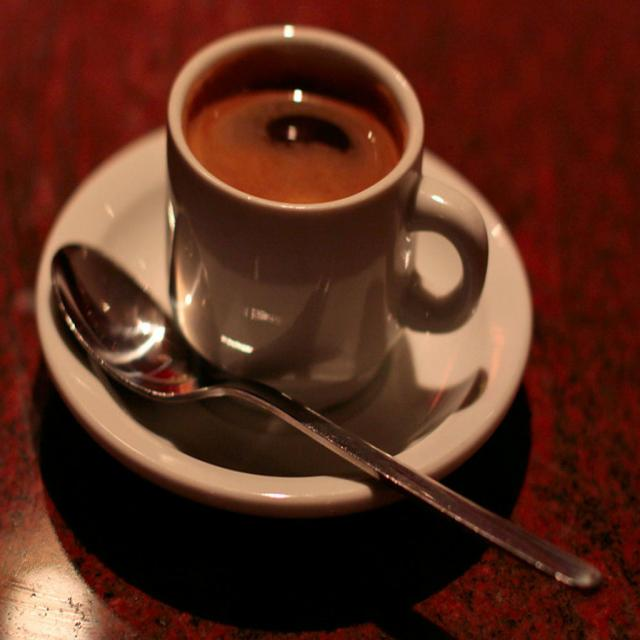Coffee: (182, 68, 405, 198)
Tea: (181, 47, 401, 206)
